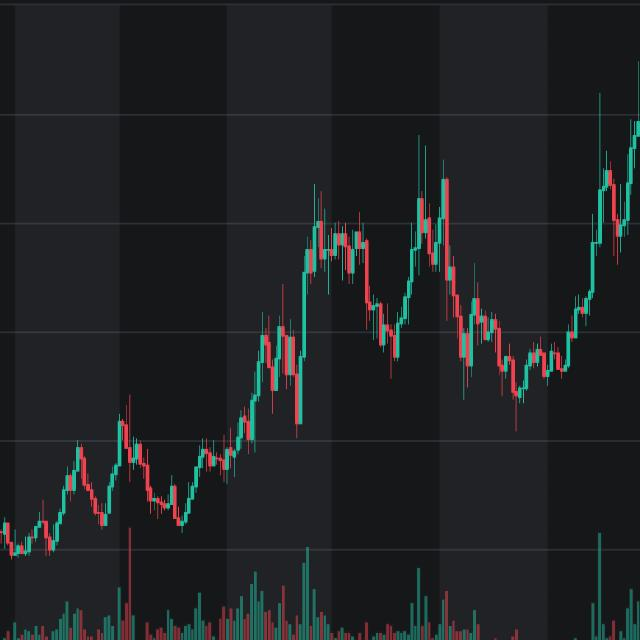Rising-Wedge: (445, 121, 636, 523)
